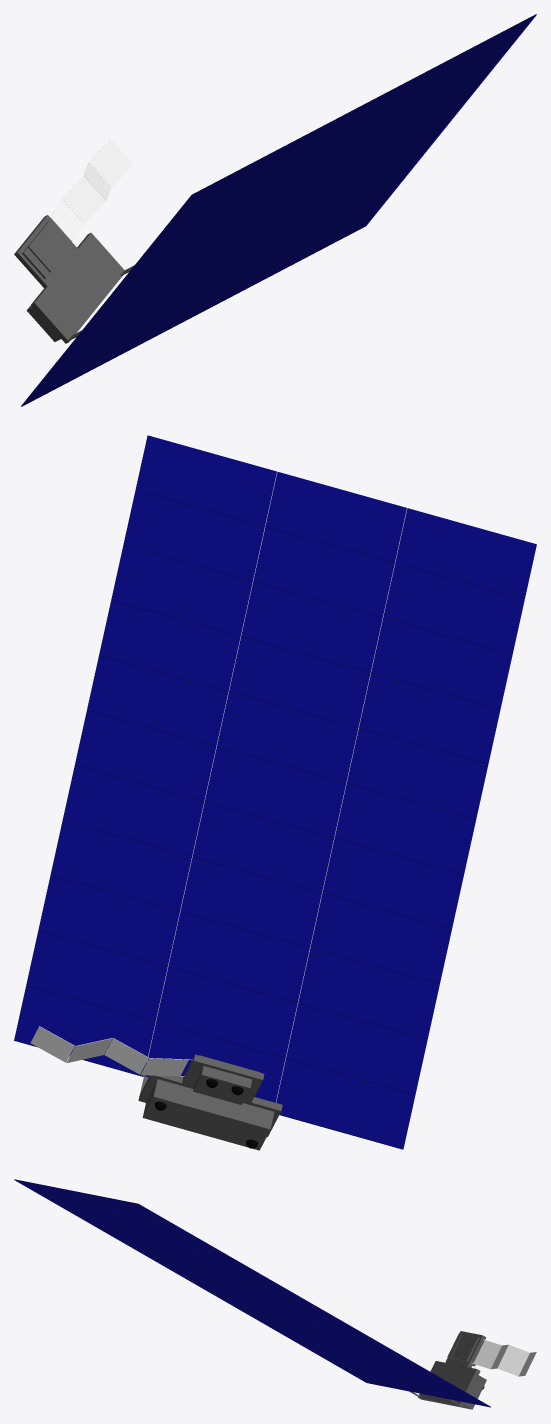
Rendered from SpaceIDC.gltf.
3 renders of one model, top to bottom at view 1: azimuth 30°, elevation 25°; view 2: azimuth 150°, elevation 25°; view 3: azimuth 270°, elevation 25°, orthographic. The views are drawn at different scales.
Visible parts, largest first — view 1: spacecraft_edit:Mesh group; view 2: spacecraft_edit:Mesh group; view 3: spacecraft_edit:Mesh group.
Part boxes in pixels (x1,y1,x2,y2): spacecraft_edit:Mesh group: [14, 14, 536, 406]; spacecraft_edit:Mesh group: [14, 435, 536, 1150]; spacecraft_edit:Mesh group: [14, 1179, 536, 1409].
Bounding box in the file's own units: 21.27 × 22.8 × 34.12.
